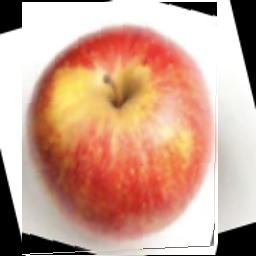Apple Fresh: (23, 3, 219, 256)
